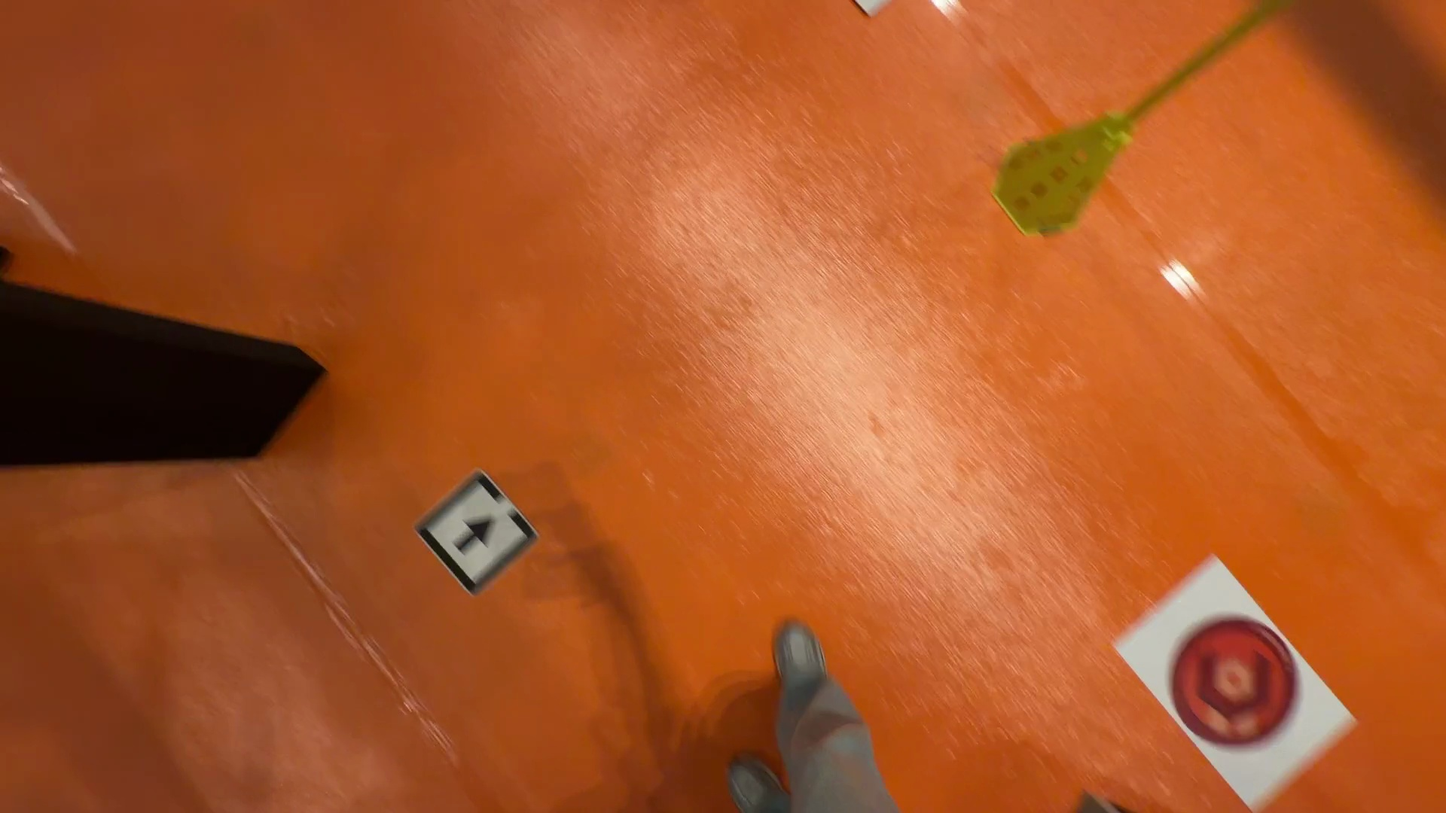landing_pad: (1170, 617, 1301, 749)
